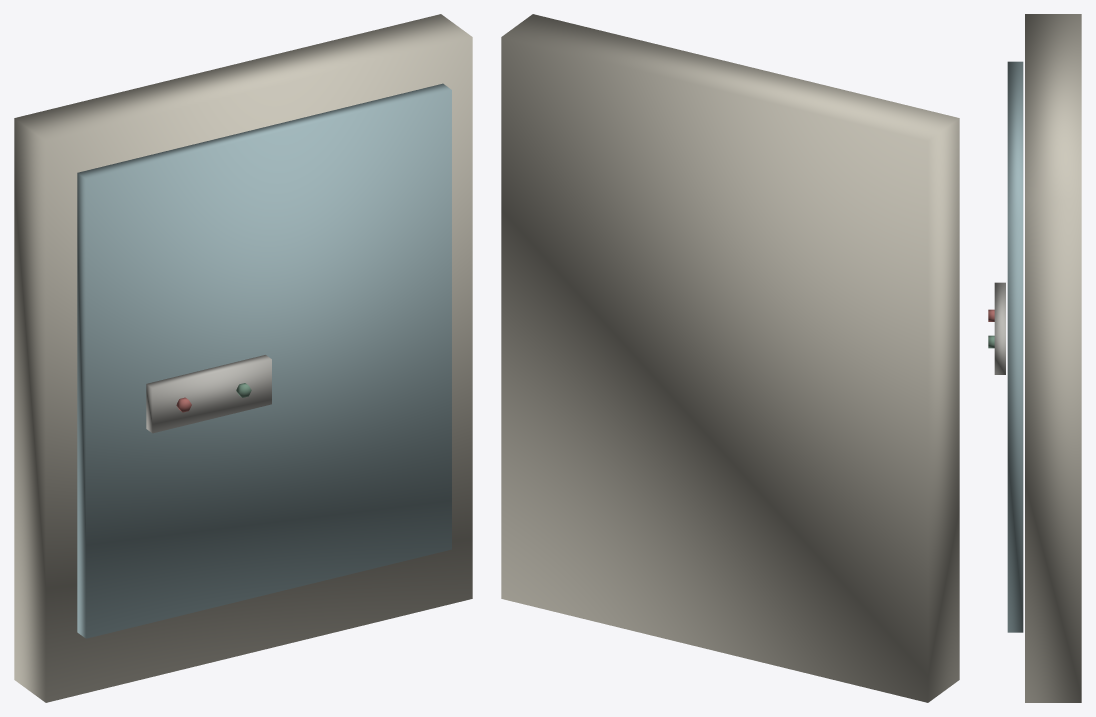
Rendered from x_ray_lightbox.glb.
The picture shows the model from 3 angles, left to right: view 1: azimuth 30°, elevation 25°; view 2: azimuth 150°, elevation 25°; view 3: azimuth 270°, elevation 25°; orthographic projection. The views are drawn at different scales.
Parts seen in each view (by area): view 1: world; view 2: world; view 3: world.
Part boxes in pixels (left/top/right/bottom): world: left=14, top=14, right=472, bottom=702; world: left=501, top=14, right=959, bottom=702; world: left=988, top=14, right=1081, bottom=702.
Bounding box in the file's own units: 0.7 × 0.88 × 0.1485.
